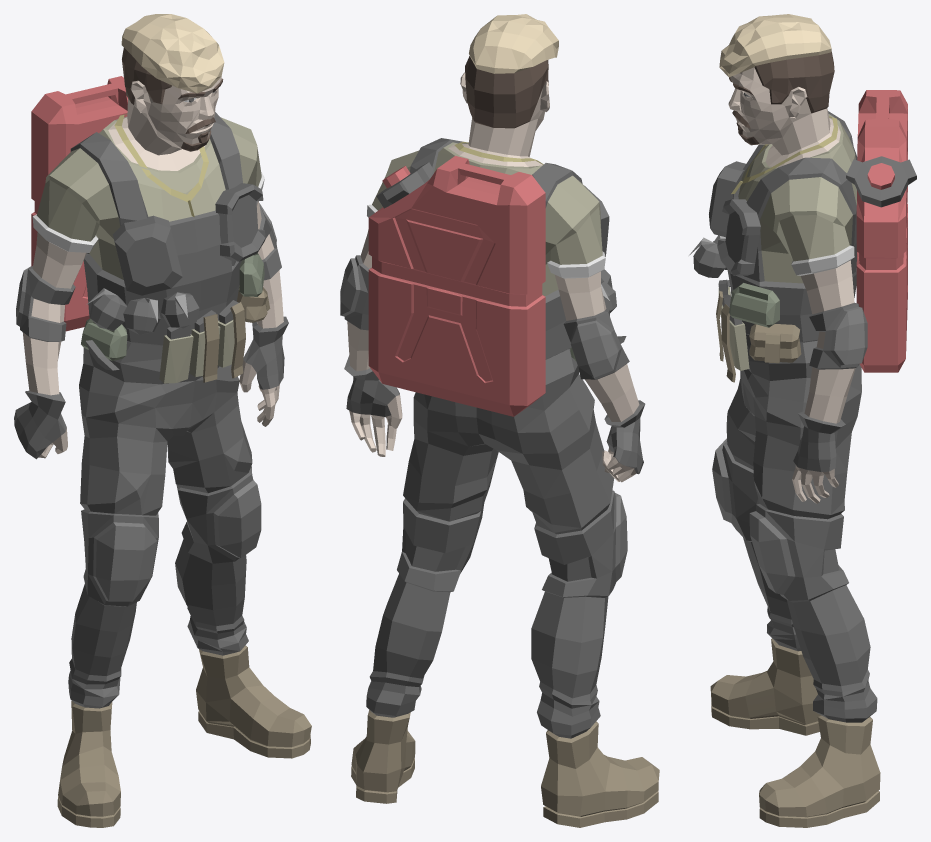
Rendered from Player Model.fbx.
3 views of the same model, side by side, from view 1: azimuth 30°, elevation 25°; view 2: azimuth 150°, elevation 25°; view 3: azimuth 270°, elevation 25° (orthographic). The views are drawn at different scales.
Parts seen in each view (by area): view 1: MikeyGuzman.obj; view 2: MikeyGuzman.obj; view 3: MikeyGuzman.obj.
Part boxes in pixels (bbox=[...]): MikeyGuzman.obj: bbox=[14, 14, 311, 827]; MikeyGuzman.obj: bbox=[340, 14, 659, 827]; MikeyGuzman.obj: bbox=[689, 14, 916, 827].
Size of the model in its own units: 69.65 by 182 by 50.86.
